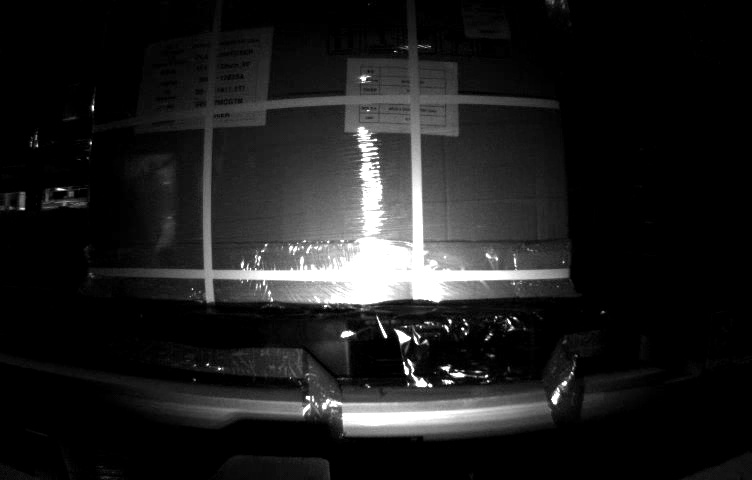True Barcode: (463, 3, 520, 38)
